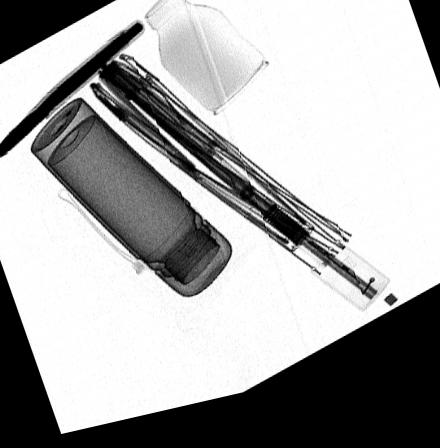Pliers: (0, 30, 143, 159)
